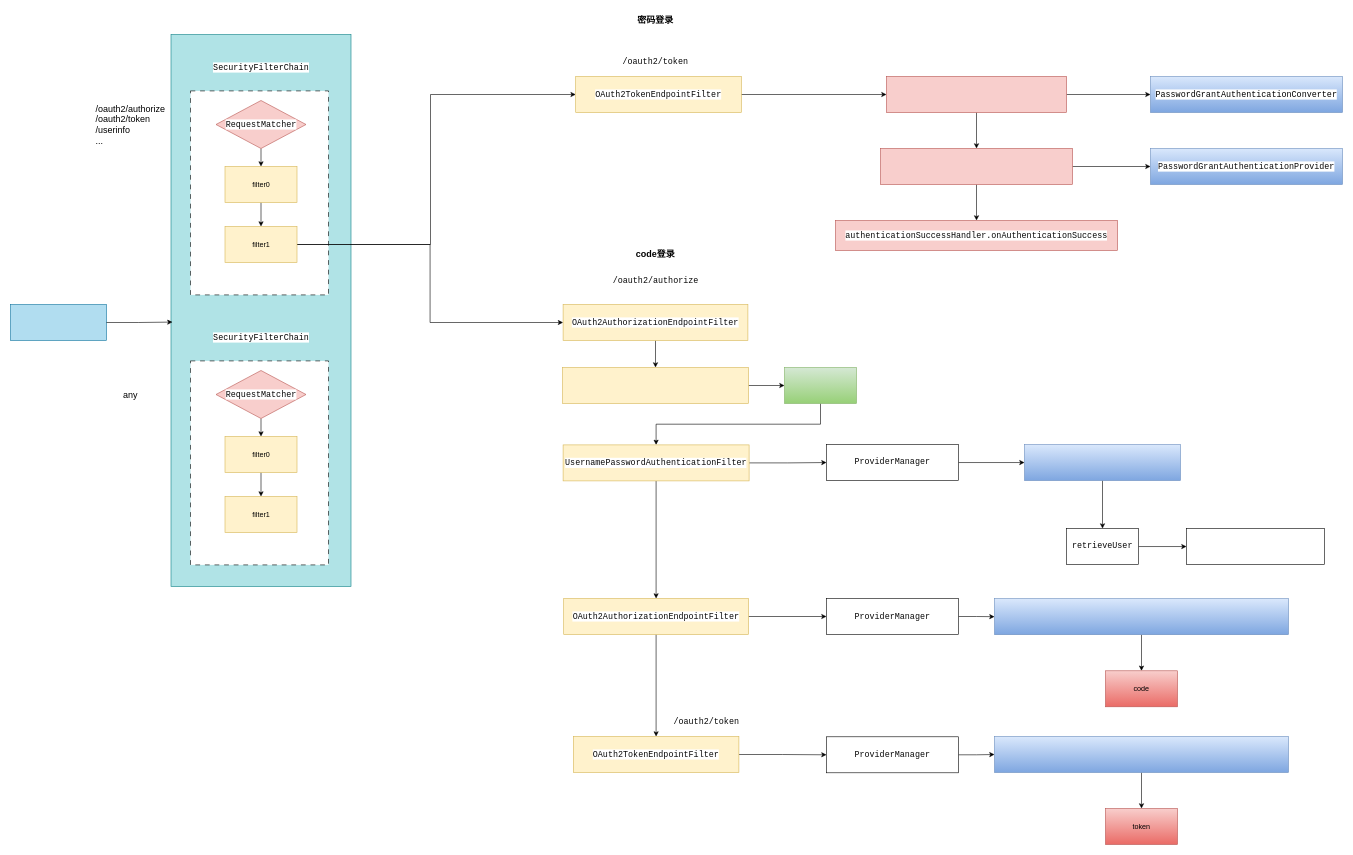
Image size: 1353x855. Some labels were removed from this diagram. Each missing label, with the centre of its shape:
authenticationConverter.convert: point 976,94
authenticationManager.authenticate: point 976,166
DaoAuthenticationProvider: point 1102,462
ExceptionTranslationFilter: point 655,385
FilterChainProxy: point 58,322
login-page: point 820,385
OAuth2AuthorizationCodeAuthenticationProvider: point 1141,754
OAuth2AuthorizationCodeRequestAuthenticationProvider: point 1141,616
UserDetailsService: point 1255,546
